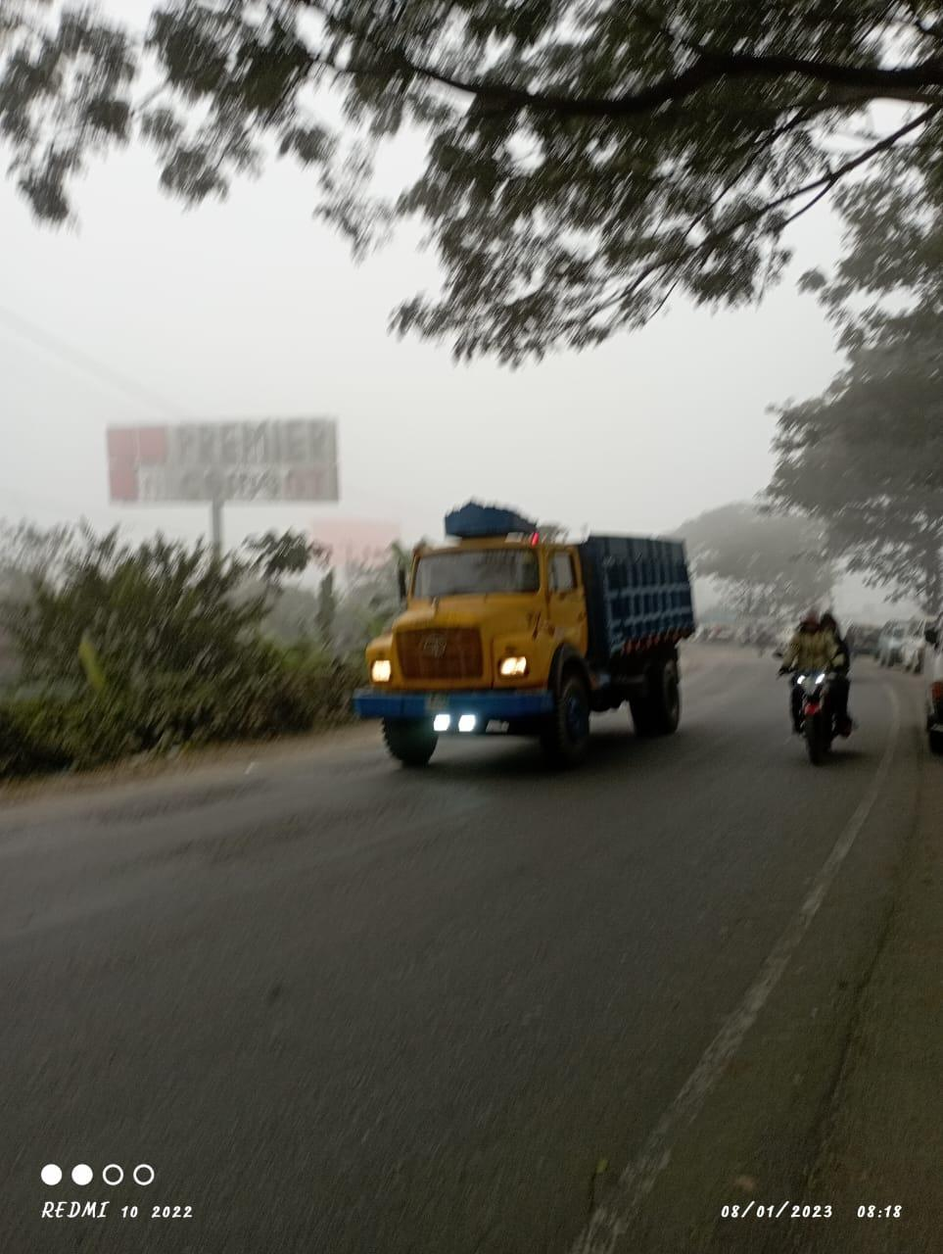Bike: (777, 606, 860, 767)
Truck: (325, 493, 707, 771)
